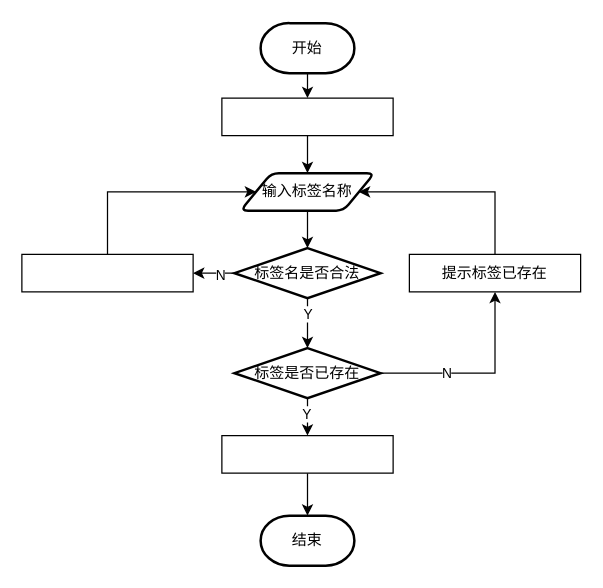
The diagram is 603 pixels wide and 588 high, and some of its shapes have lost their labels. Here are the shapes that lost their labels. From the top down, the centre of each, then its label:
the point at 307,116: 点击“新增”按钮
the point at 107,272: 提示标签名不合法
the point at 307,453: 保存标签
